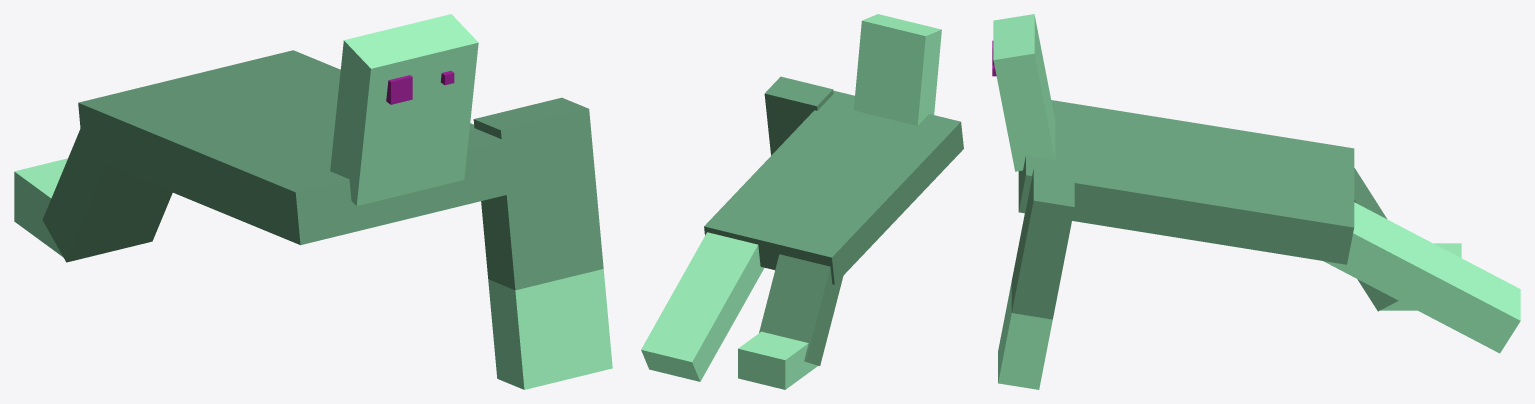
Rendered from UndeadCurse.fbx.
3 renders of one model, left to right at view 1: azimuth 30°, elevation 25°; view 2: azimuth 150°, elevation 25°; view 3: azimuth 270°, elevation 25°, orthographic. The views are drawn at different scales.
Parts seen in each view (by area): view 1: Cube.001, Cube.006, Cube.004, Cube.003, Cube.008; view 2: Cube.001, Cube.002, Cube.006, Cube.003; view 3: Cube.001, Cube.002, Cube.006, Cube.004, Cube.003.
Boxes of the visible parts, x1,y1,x2,y2 form: Cube.001: (42, 50, 603, 290); Cube.006: (330, 14, 478, 205); Cube.004: (488, 269, 612, 389); Cube.003: (14, 158, 67, 257); Cube.008: (386, 75, 412, 104); Cube.001: (704, 76, 963, 365); Cube.002: (641, 232, 764, 381); Cube.006: (853, 14, 941, 125); Cube.003: (738, 331, 817, 389); Cube.001: (1011, 100, 1398, 319); Cube.002: (1323, 202, 1520, 353); Cube.006: (993, 14, 1055, 171); Cube.004: (998, 282, 1052, 389); Cube.003: (1380, 243, 1461, 310).
Size of the model in its own units: 82.4 by 99.92 by 167.
